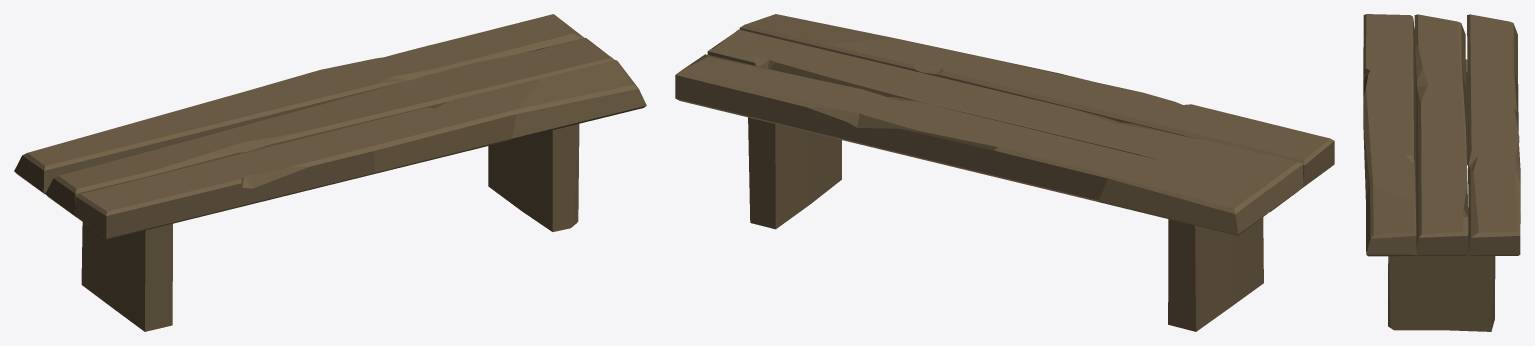
Rendered from greek_bench_2.fbx.
The picture shows the model from 3 angles, left to right: view 1: azimuth 30°, elevation 25°; view 2: azimuth 150°, elevation 25°; view 3: azimuth 270°, elevation 25°; orthographic projection. The views are drawn at different scales.
Visible parts, largest first — view 1: Cube.072; view 2: Cube.072; view 3: Cube.072.
Boxes of the visible parts, left/top/right/bottom form: Cube.072: left=14, top=14, right=646, bottom=331; Cube.072: left=675, top=14, right=1334, bottom=331; Cube.072: left=1363, top=14, right=1520, bottom=331.
Size of the model in its own units: 201 by 51.08 by 60.29.
